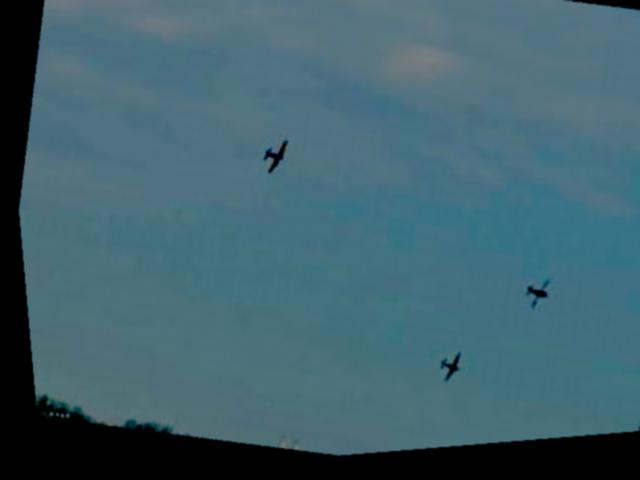uav: (249, 134, 295, 185), (508, 278, 554, 324), (423, 351, 464, 396)
